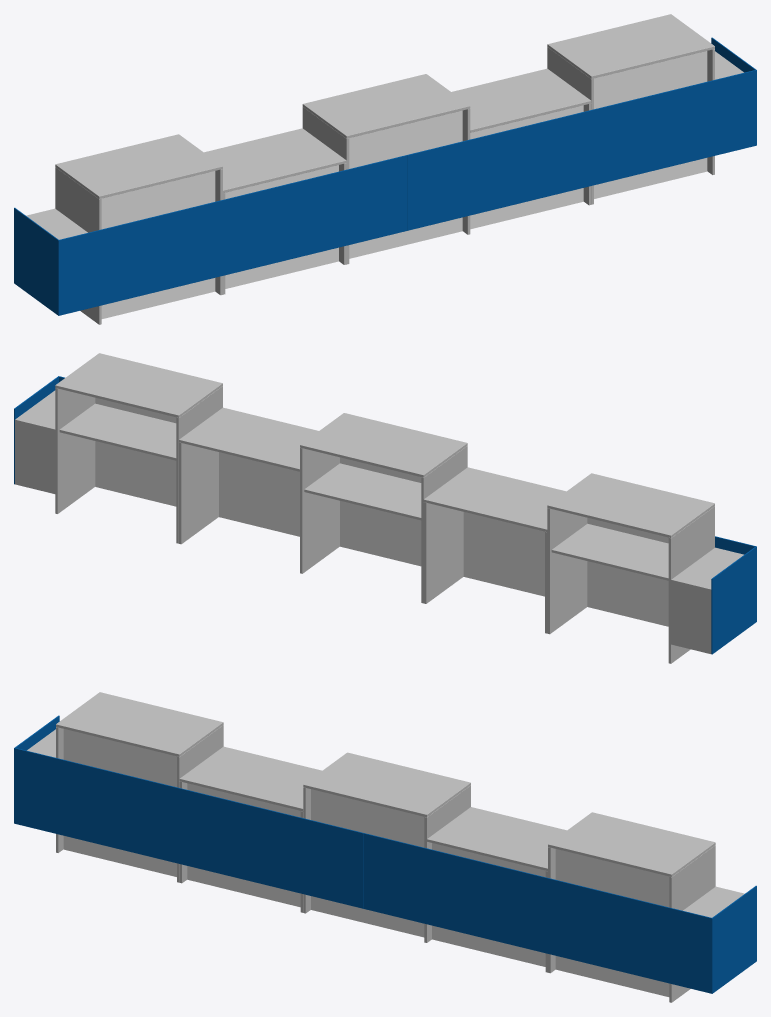
Rendered from Reception 2.FBX.
3 views of the same model, one above another, from view 1: azimuth 30°, elevation 25°; view 2: azimuth 150°, elevation 25°; view 3: azimuth 330°, elevation 25° (orthographic).
Visible parts, largest first — view 1: reception 2; view 2: reception 2; view 3: reception 2.
Part boxes in pixels (x1,y1,x2,y2): reception 2: [14, 14, 756, 324]; reception 2: [14, 353, 756, 663]; reception 2: [14, 692, 756, 1002].
Bounding box in the file's own units: 604 × 106 × 66.89.
